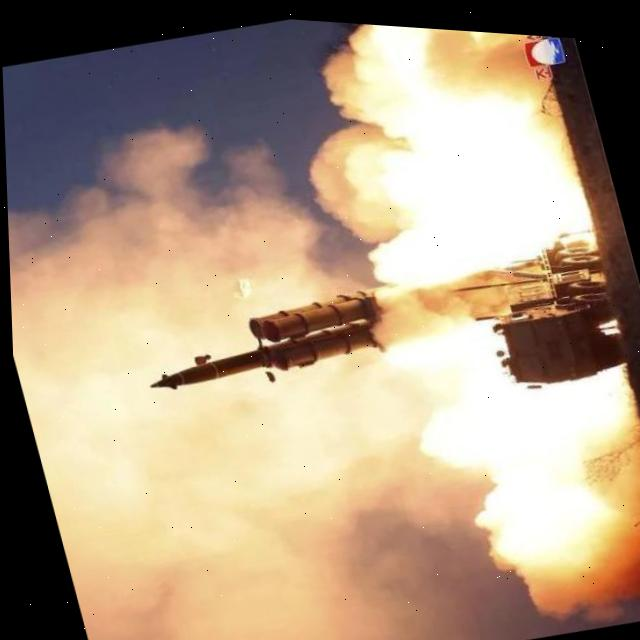missile: (130, 268, 397, 410)
